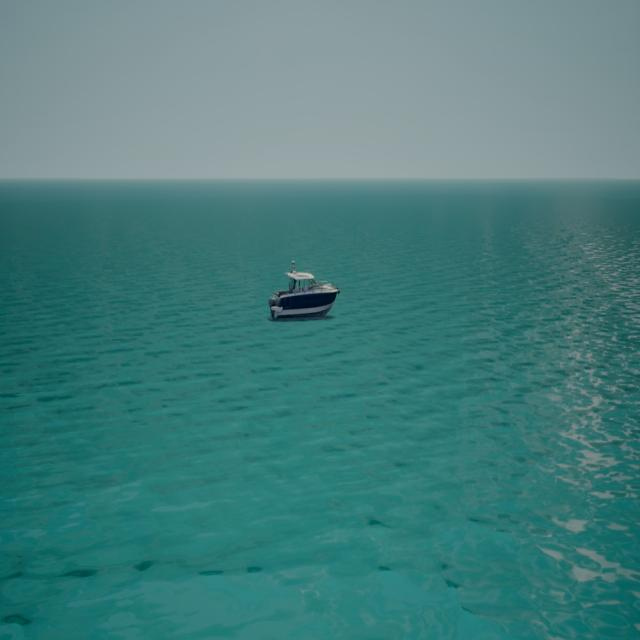ship: (266, 259, 342, 321)
